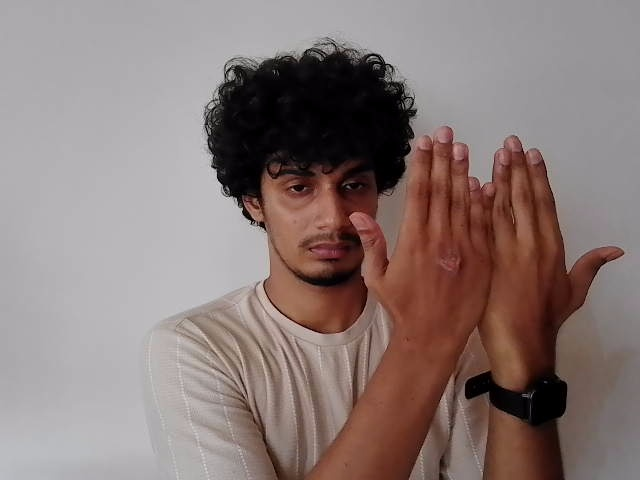school: (349, 129, 623, 334)
